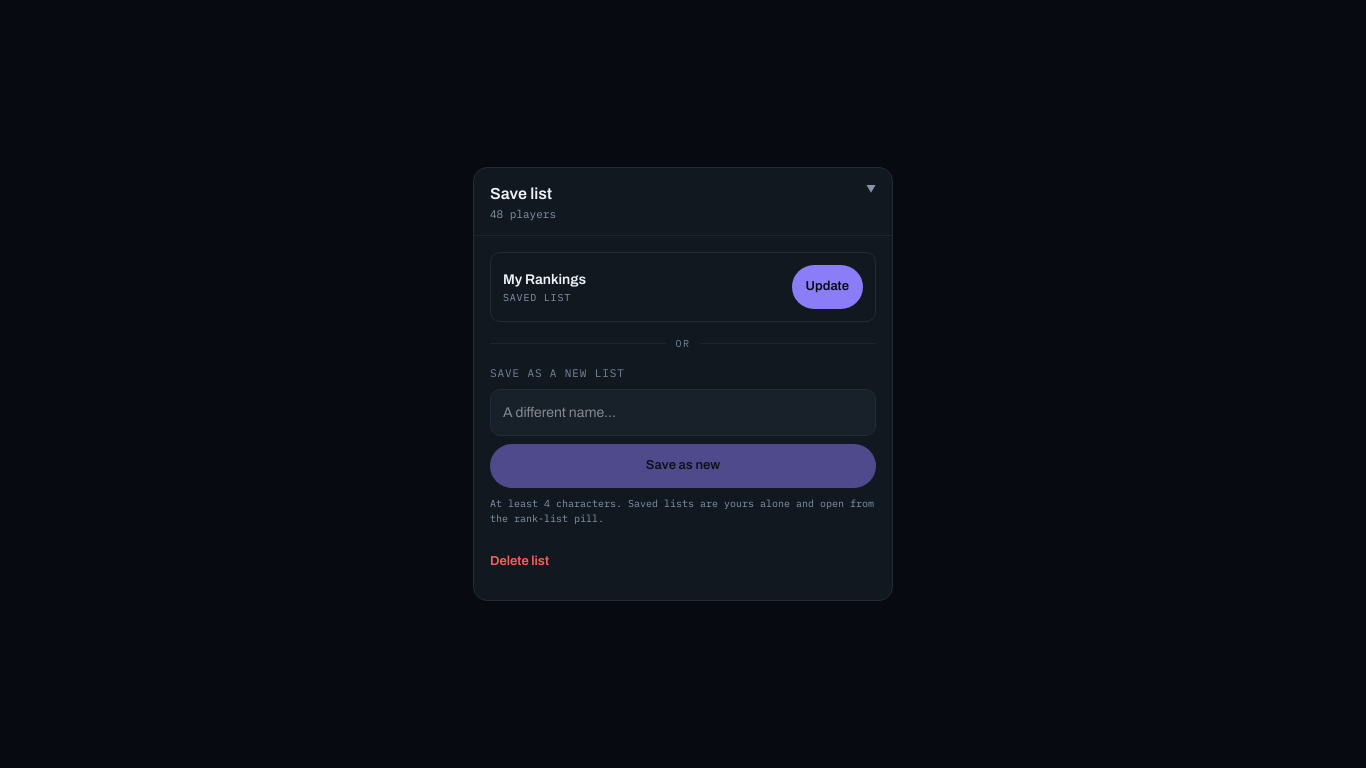
it: SaveListSheet › reports a failed write instead of closing on it
What coordinates should you click on to do the following:
click the button "Update"
I would click on:
 (827, 286)
Its box is x1=792 y1=264 x2=863 y2=308.
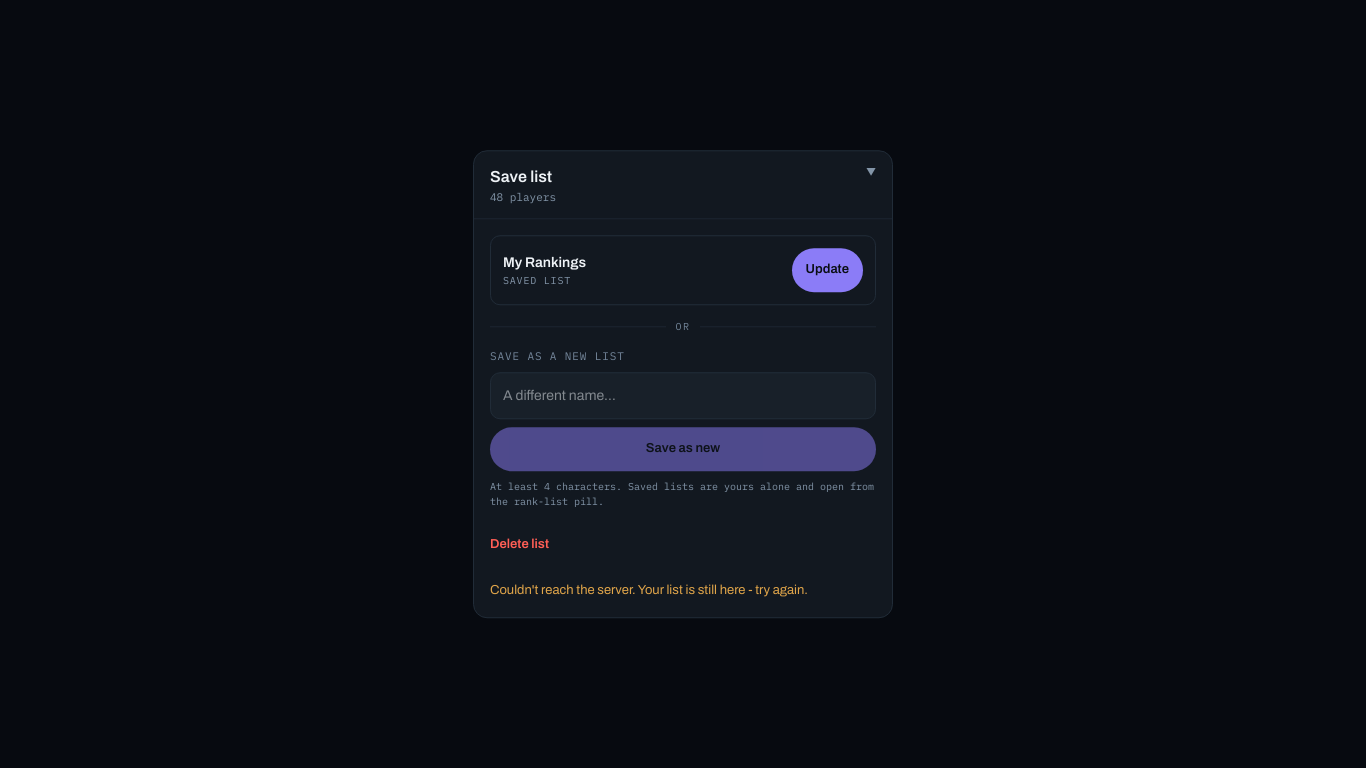
Expected: the message "Couldn't reach the server. Your list is still here - try again." is shown, x1=490 y1=583 x2=808 y2=597
